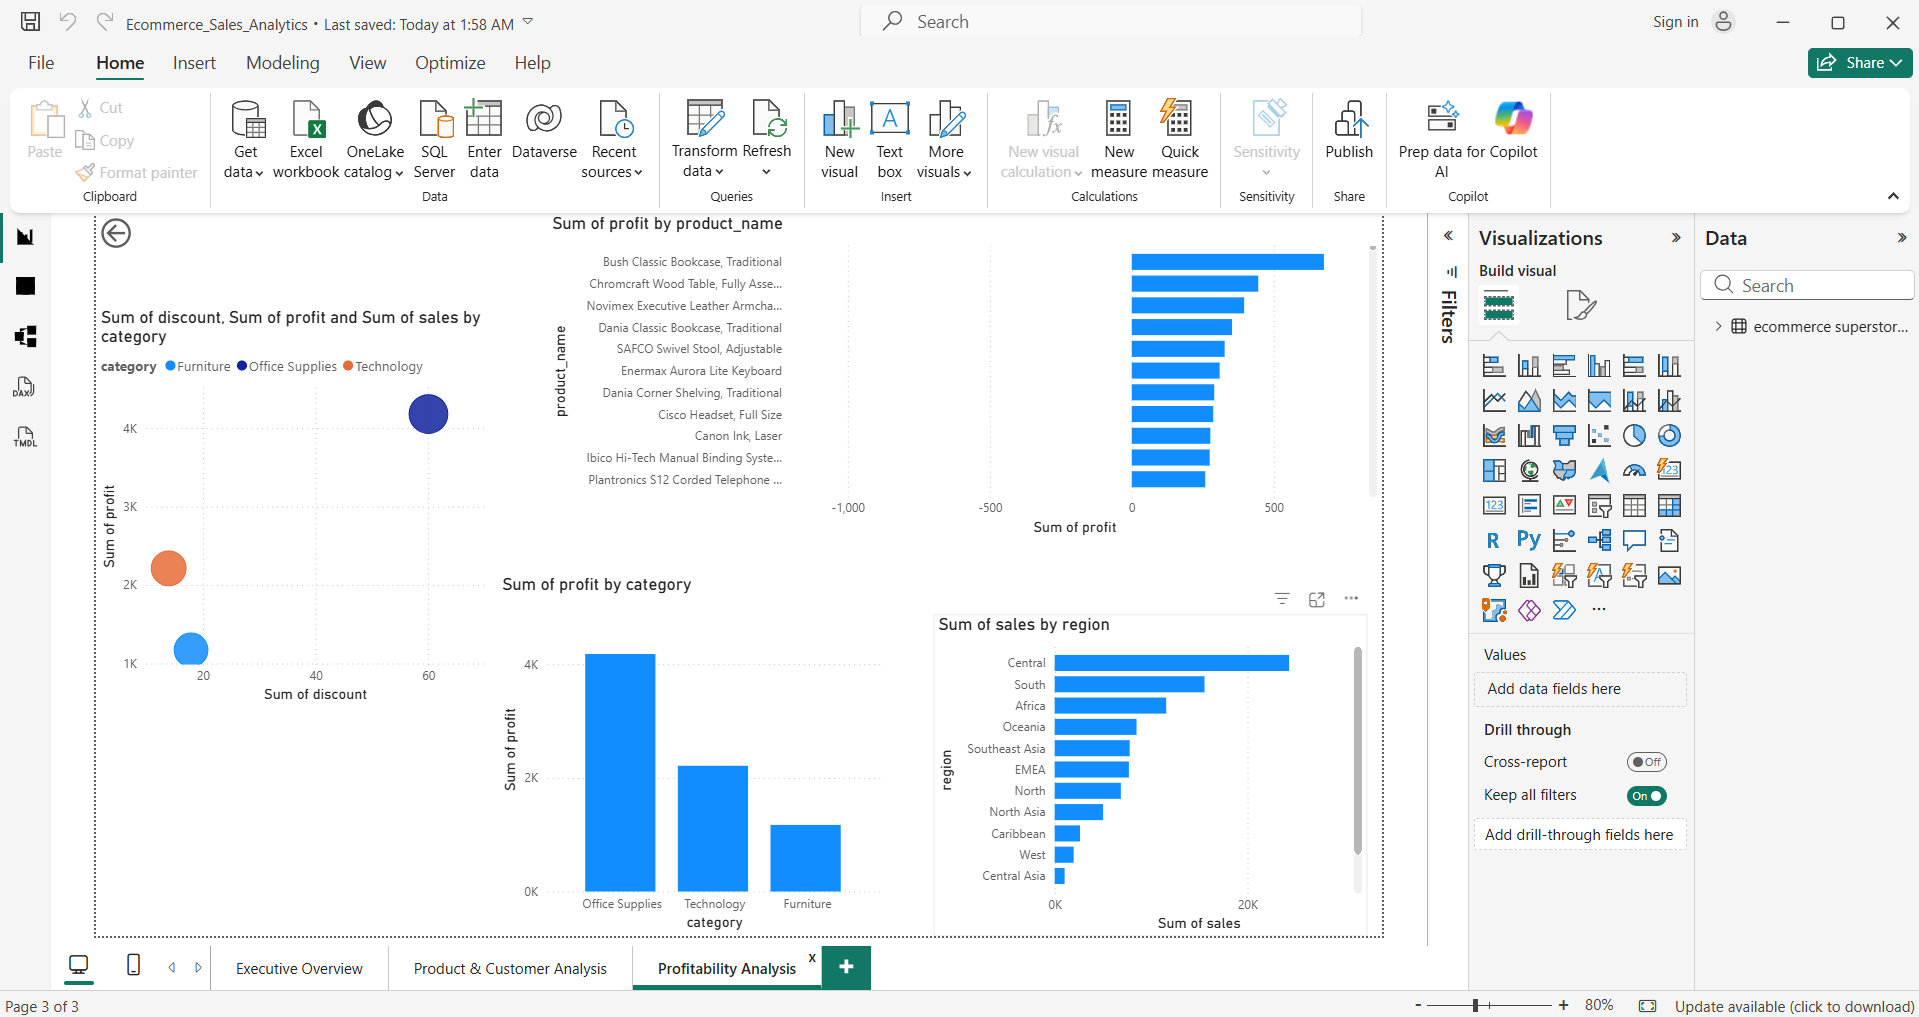

What the dashboard file says about the page in this screenshot:
{"tool":"powerbi","page":{"name":"Profitability Analysis","canvas":[1280,720],"ordinal":2},"visuals":[{"type":"columnChart","fields":{"Category":["ecommerce superstoreorders.category"],"Y":["Sum(ecommerce superstoreorders.profit)"]},"box":[398.8,359.8,387.8,359.8],"z":0},{"type":"clusteredBarChart","fields":{"Category":["ecommerce superstoreorders.region"],"Y":["Sum(ecommerce superstoreorders.sales)"]},"box":[833.5,399.3,431.7,320.9],"z":1000},{"type":"scatterChart","fields":{"X":["Sum(ecommerce superstoreorders.discount)"],"Size":["Sum(ecommerce superstoreorders.sales)"],"Series":["ecommerce superstoreorders.category"],"Y":["Sum(ecommerce superstoreorders.profit)"]},"box":[0,93.9,398.8,398.8],"z":2000},{"type":"clusteredBarChart","fields":{"Category":["ecommerce superstoreorders.product_name"],"Y":["Sum(ecommerce superstoreorders.profit)"]},"box":[449.1,0,831,325.9],"z":3000},{"type":"actionButton","box":[0,0,100,40],"z":4000}]}

Visuals, with their boxes on the page's 1280x720 design canvas (x1, y1, x2, y2). These are canvas units, not pixel positions in the 1919x1017 screenshot, which may show the page scaled, cropped or inside an application window:
columnChart - ecommerce superstoreorders.category x Sum(ecommerce superstoreorders.profit): (x1=399, y1=360, x2=787, y2=720)
clusteredBarChart - ecommerce superstoreorders.region x Sum(ecommerce superstoreorders.sales): (x1=834, y1=399, x2=1265, y2=720)
scatterChart - Sum(ecommerce superstoreorders.discount) x Sum(ecommerce superstoreorders.sales): (x1=0, y1=94, x2=399, y2=493)
clusteredBarChart - ecommerce superstoreorders.product_name x Sum(ecommerce superstoreorders.profit): (x1=449, y1=0, x2=1280, y2=326)
actionButton: (x1=0, y1=0, x2=100, y2=40)
